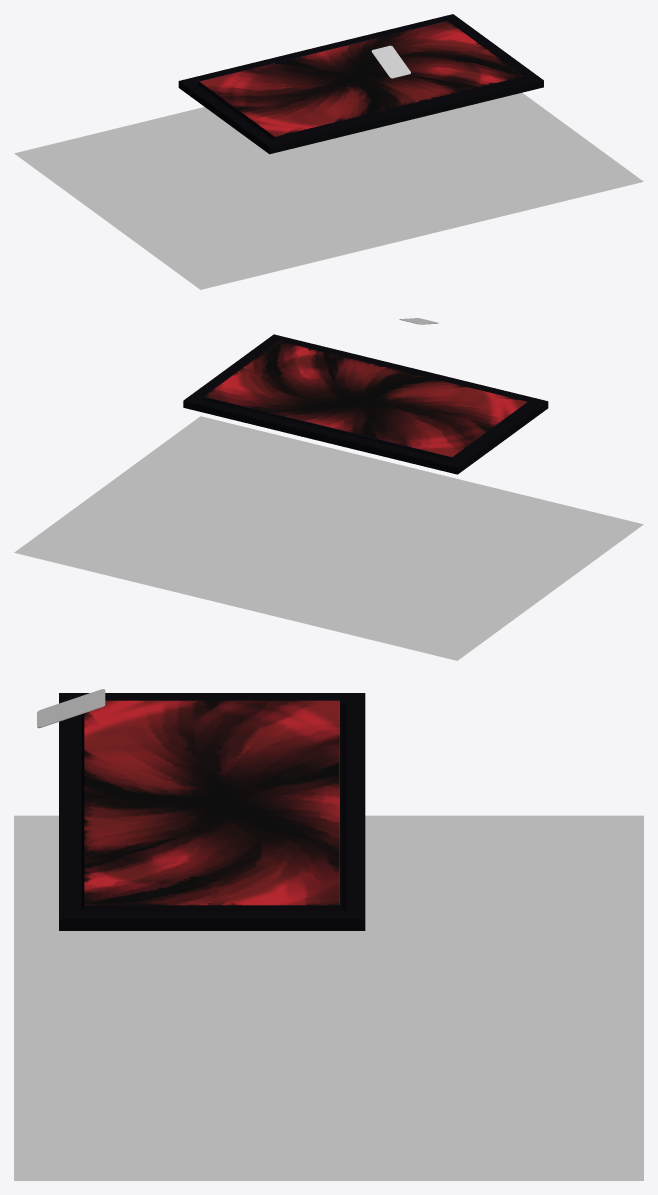
The model's file is ENTORNO.fbx.
3 renders of one model, top to bottom at view 1: azimuth 30°, elevation 25°; view 2: azimuth 150°, elevation 25°; view 3: azimuth 270°, elevation 25°, orthographic. The views are drawn at different scales.
Visible parts, largest first — view 1: Plane, TABLERO VIRUS, CARTA prueba; view 2: Plane, TABLERO VIRUS; view 3: Plane, TABLERO VIRUS, CARTA prueba.
Part boxes in pixels (bbox=[...]): Plane: bbox=[14, 93, 643, 289]; TABLERO VIRUS: bbox=[178, 14, 543, 154]; CARTA prueba: bbox=[371, 45, 410, 78]; Plane: bbox=[14, 416, 643, 660]; TABLERO VIRUS: bbox=[183, 334, 548, 474]; Plane: bbox=[14, 815, 643, 1180]; TABLERO VIRUS: bbox=[59, 693, 365, 930]; CARTA prueba: bbox=[37, 689, 105, 728].
Size of the model in its own units: 590 by 218 by 430.
